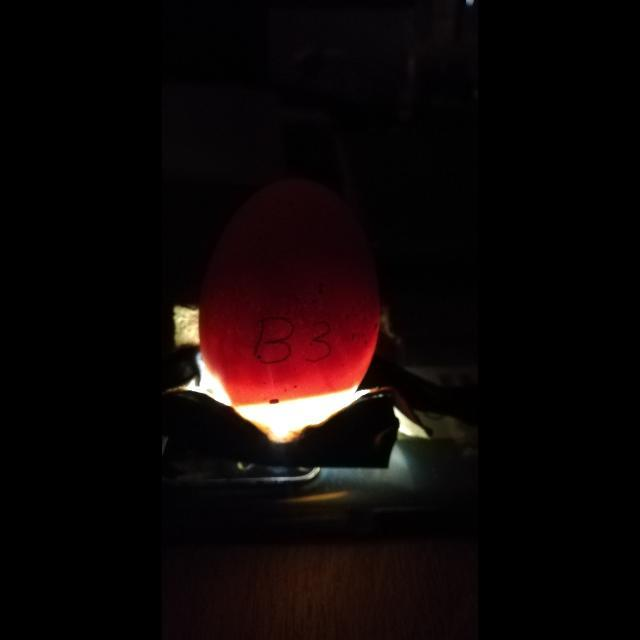Fertile: (188, 172, 386, 422)
